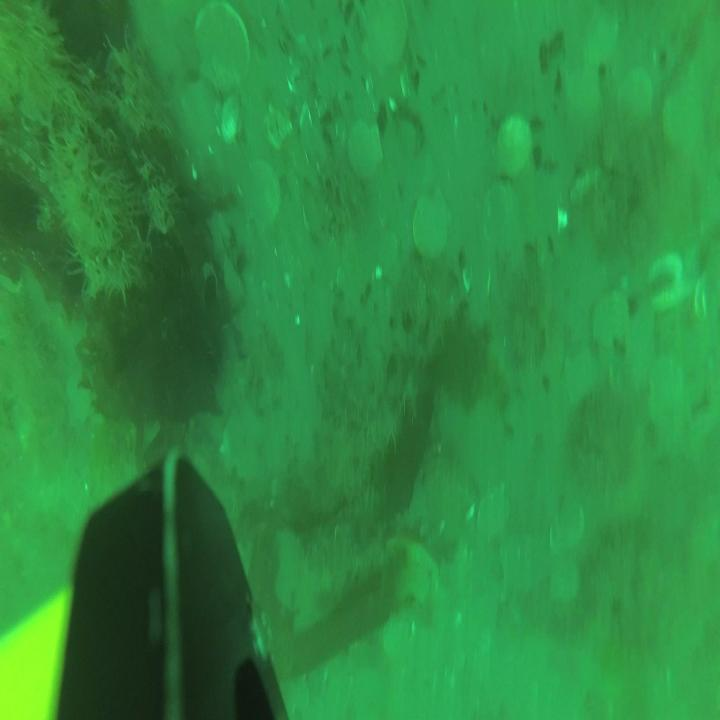scallop: (195, 3, 251, 86), (358, 2, 411, 79), (241, 157, 280, 234), (664, 88, 706, 154), (346, 117, 386, 185), (415, 186, 451, 261), (648, 358, 685, 427), (499, 115, 537, 176), (589, 288, 630, 344), (500, 534, 538, 593), (548, 502, 586, 557), (477, 483, 511, 541), (565, 349, 598, 406), (620, 71, 652, 126)
